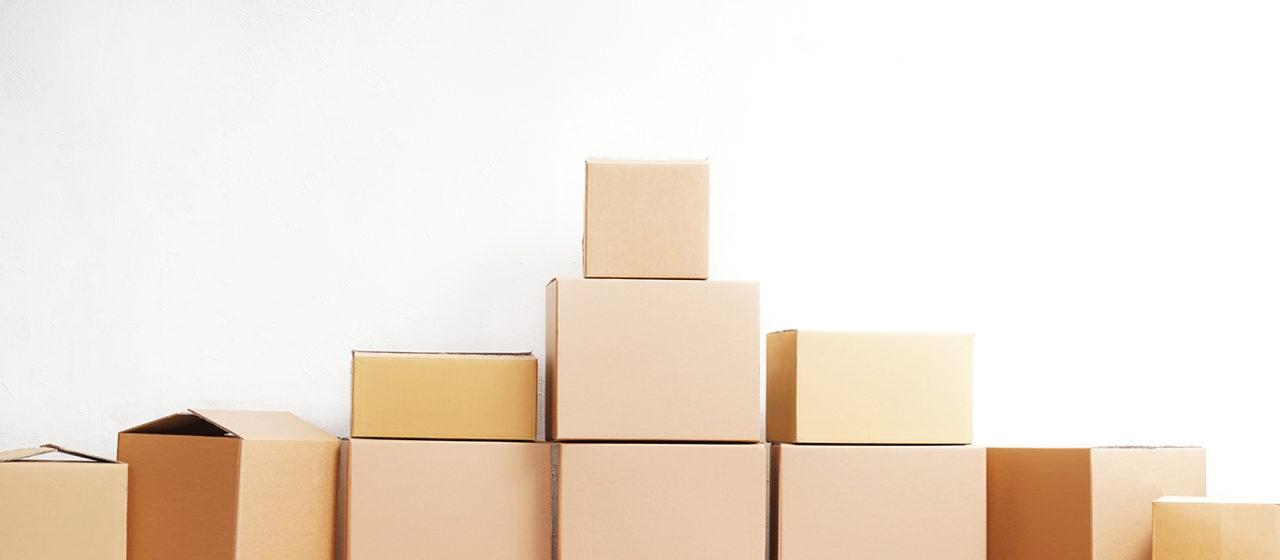Box: (545, 278, 760, 441), (118, 410, 340, 560), (770, 442, 988, 560), (342, 438, 552, 560), (558, 442, 768, 560), (988, 448, 1205, 560), (765, 330, 972, 444), (350, 350, 538, 439), (585, 158, 708, 279), (0, 445, 128, 560), (1152, 495, 1280, 560)
